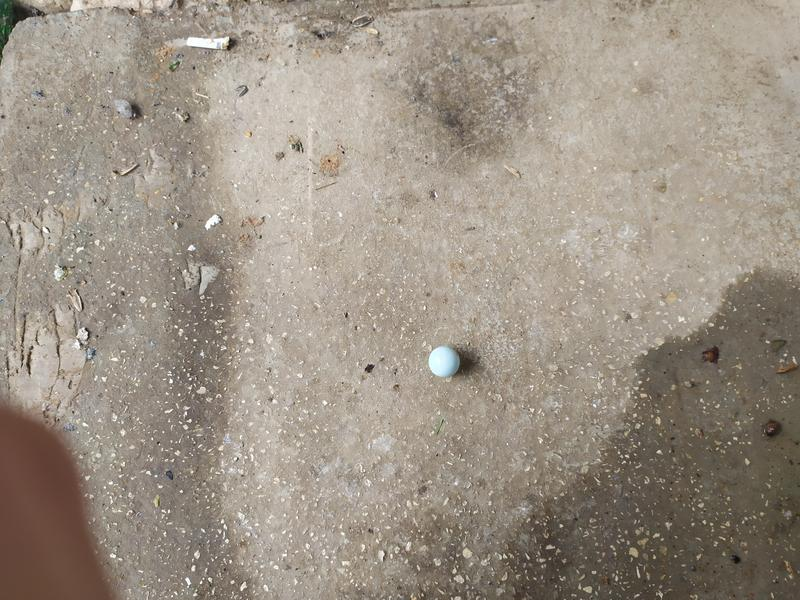Warning: (427, 343, 463, 379)
